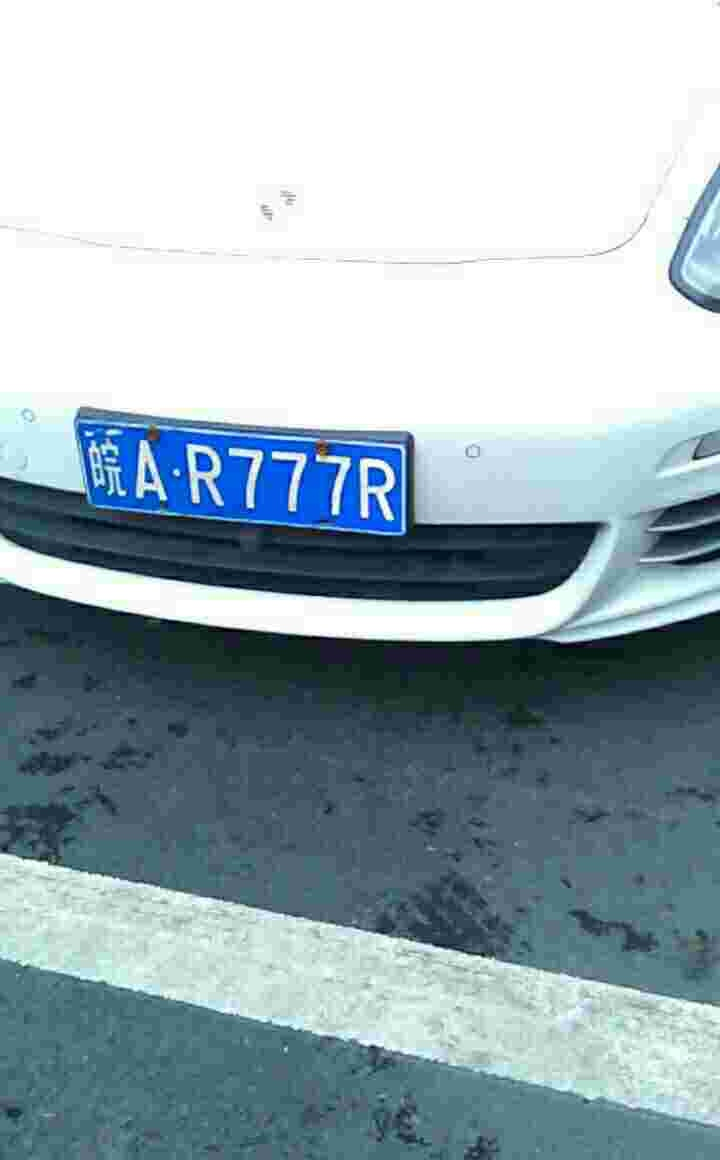license_plate: (84, 424, 414, 545)
